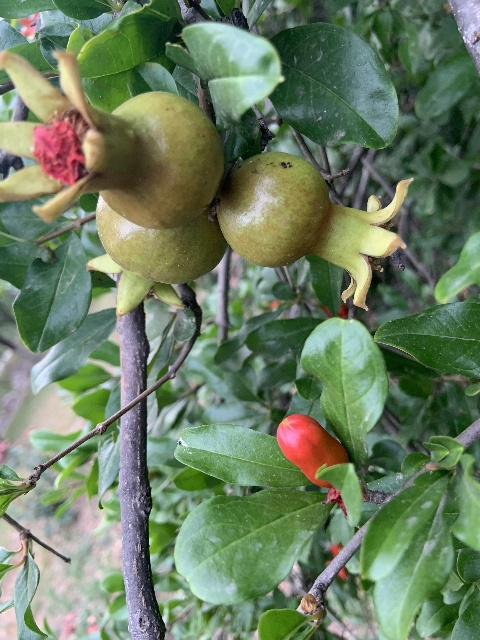bud: (276, 413, 347, 487)
mid-growth: (0, 50, 224, 228), (218, 152, 410, 313), (84, 194, 228, 315)
